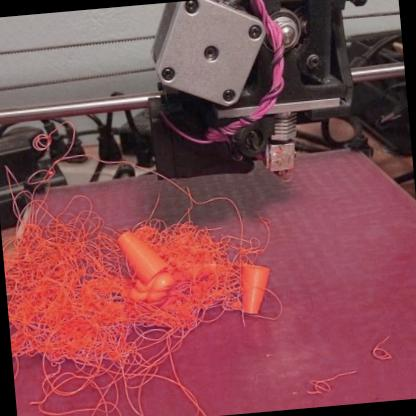fail: (1, 167, 274, 416)
